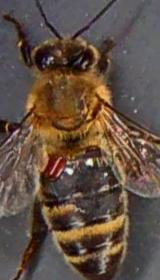varroa_mite: (40, 153, 67, 182)
